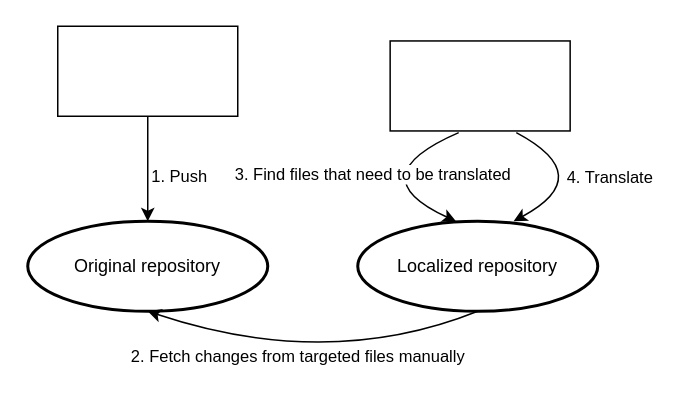
This 678x393 diagram has some shape labels left out. The shapes that lost their labels are listed below. From the top down, each one's centre as x and y in pixels, then its label:
pixel 147 70: Developer
pixel 479 85: Translator
